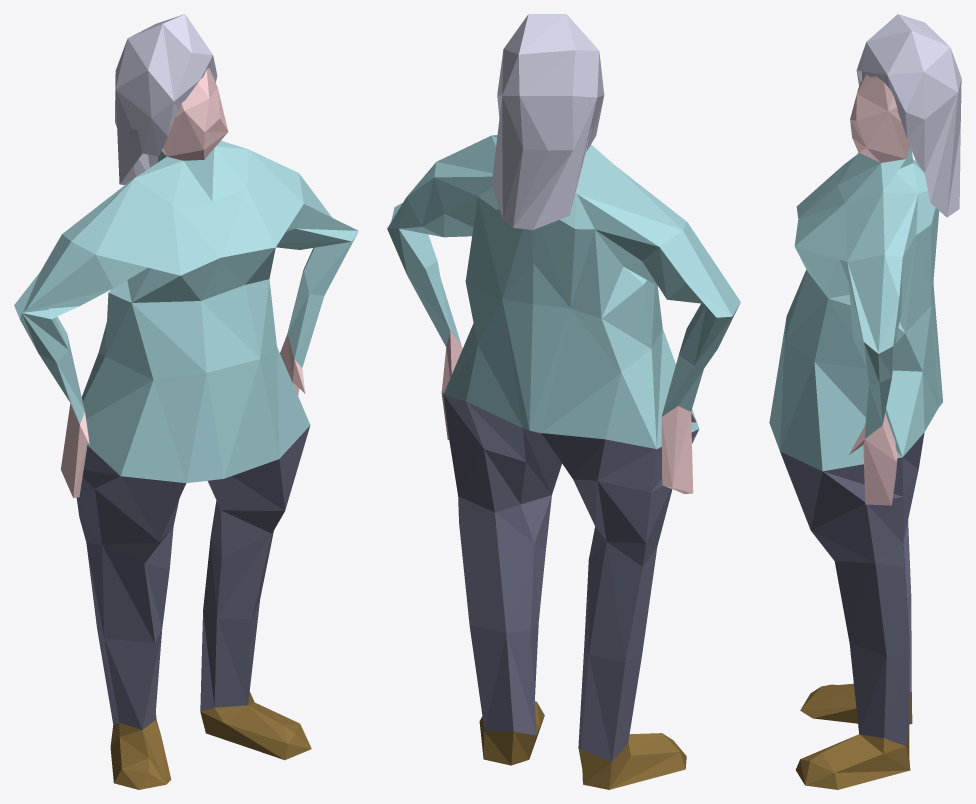
The model's file is OldWoman.gltf.
3 renders of one model, left to right at view 1: azimuth 30°, elevation 25°; view 2: azimuth 150°, elevation 25°; view 3: azimuth 270°, elevation 25°, orthographic. The views are drawn at different scales.
Parts seen in each view (by area): view 1: Mesh_Wear_6_0, Mesh_Wear_4_0, Mesh_Wear_3_0, Mesh_Hair1_0.001, Mesh_Skin1_0; view 2: Mesh_Wear_6_0, Mesh_Wear_4_0, Mesh_Wear_3_0, Mesh_Hair1_0.001, Mesh_Skin1_0; view 3: Mesh_Wear_6_0, Mesh_Wear_4_0, Mesh_Wear_3_0, Mesh_Hair1_0.001, Mesh_Skin1_0.
Boxes of the visible parts, <box> form: Mesh_Wear_6_0: <box>14,140,358,483</box>; Mesh_Wear_4_0: <box>76,425,310,729</box>; Mesh_Wear_3_0: <box>115,14,217,184</box>; Mesh_Hair1_0.001: <box>110,691,311,789</box>; Mesh_Skin1_0: <box>61,68,305,498</box>; Mesh_Wear_6_0: <box>387,135,740,449</box>; Mesh_Wear_4_0: <box>443,395,698,761</box>; Mesh_Wear_3_0: <box>491,14,604,229</box>; Mesh_Hair1_0.001: <box>479,701,686,789</box>; Mesh_Skin1_0: <box>441,331,695,493</box>; Mesh_Wear_6_0: <box>769,147,942,471</box>; Mesh_Wear_4_0: <box>780,432,924,745</box>; Mesh_Wear_3_0: <box>856,14,961,217</box>; Mesh_Hair1_0.001: <box>796,683,912,789</box>; Mesh_Skin1_0: <box>849,74,910,505</box>.
Bounding box in the file's own units: 64.5 × 133 × 32.15.
